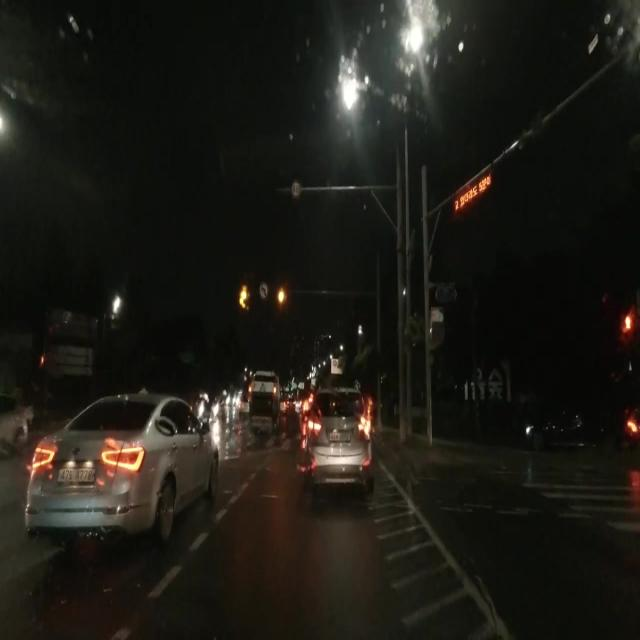Car: (26, 388, 217, 536), (299, 385, 372, 484)
